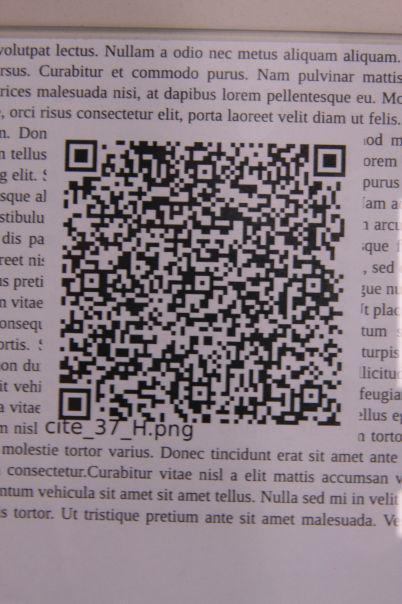qr_code: (58, 139, 346, 427)
